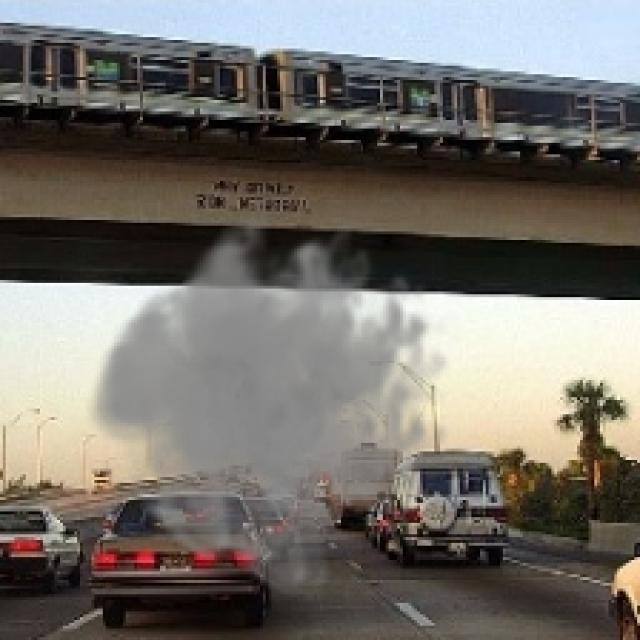Smoke: (86, 200, 452, 603)
